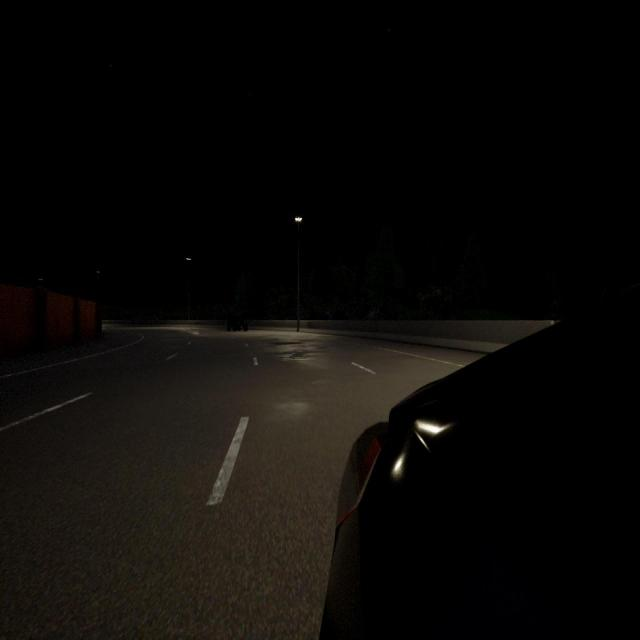Vehicle: (321, 292, 638, 638), (224, 318, 248, 332)
